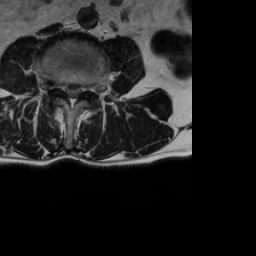CCS_normal: (69, 80, 76, 109)
LFS_stenosis: (84, 79, 90, 97)
LLS_stenosis: (75, 80, 83, 102)
RFS_severe_stenosis: (54, 79, 62, 97)
RLS_stenosis: (62, 79, 69, 100)
